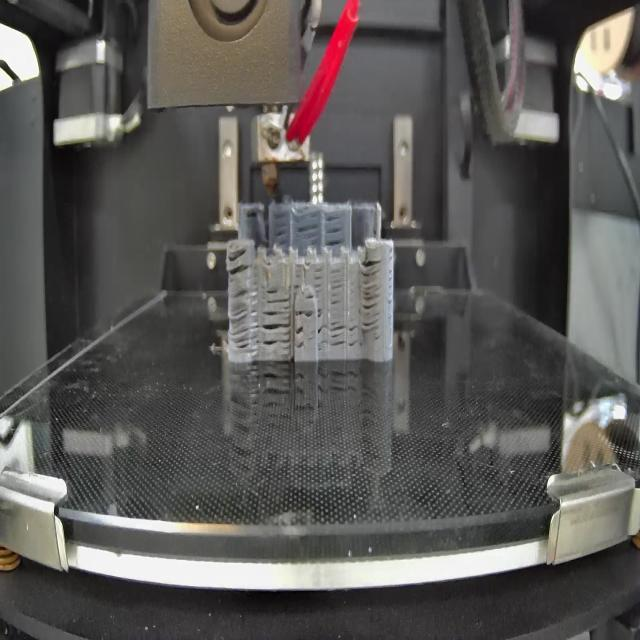cracks: (228, 290, 260, 352), (360, 258, 381, 332), (262, 311, 292, 353), (330, 320, 361, 350), (323, 213, 345, 249), (228, 246, 252, 273), (298, 217, 320, 246), (330, 268, 345, 307), (316, 306, 329, 348), (274, 210, 289, 240), (266, 288, 290, 306), (293, 262, 304, 289), (295, 306, 316, 320), (244, 206, 262, 222), (295, 325, 306, 351), (314, 264, 324, 291), (302, 293, 316, 302)
